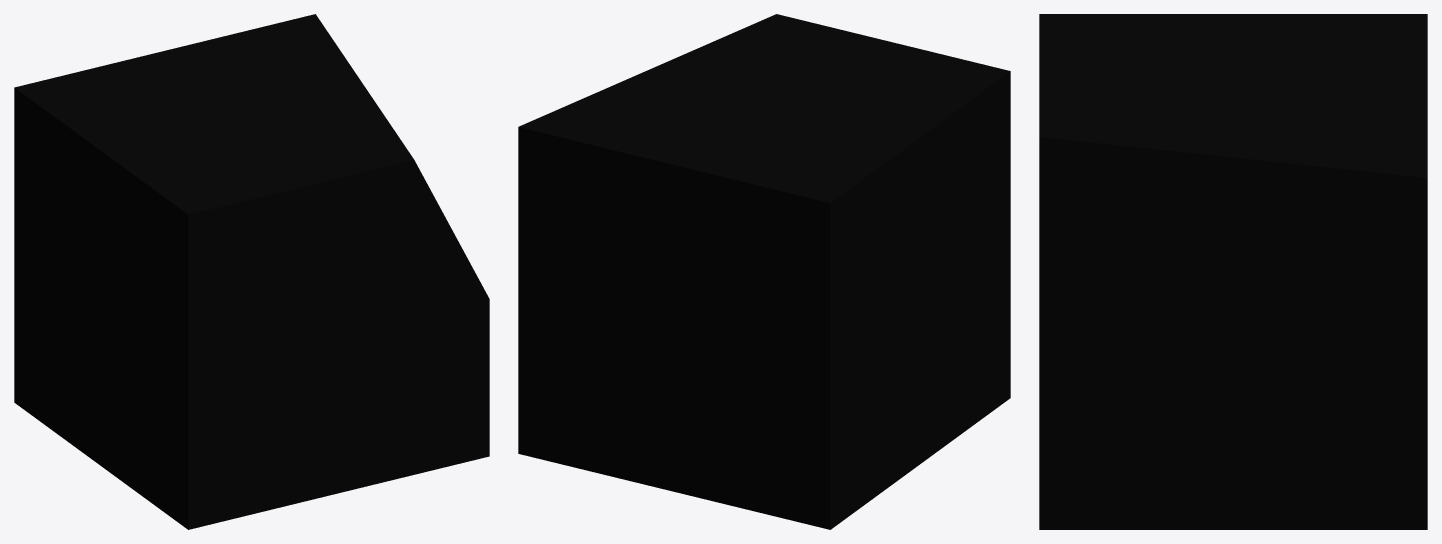
File: r5c4_body_black.gltf
3 renders of one model, left to right at view 1: azimuth 30°, elevation 25°; view 2: azimuth 150°, elevation 25°; view 3: azimuth 270°, elevation 25°, orthographic. The views are drawn at different scales.
Visible parts, largest first — view 1: r5c4_body_black; view 2: r5c4_body_black; view 3: r5c4_body_black.
Part boxes in pixels (x1,y1,x2,y2): r5c4_body_black: (14, 14, 489, 529); r5c4_body_black: (518, 14, 1010, 529); r5c4_body_black: (1039, 14, 1427, 529).
Size of the model in its own units: 2 by 2 by 2.
1 material, 1 textured.
